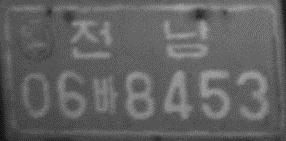0: (21, 71, 51, 120)
3: (236, 68, 270, 123)
4: (163, 70, 194, 122)
5: (198, 69, 232, 122)
6: (55, 69, 87, 119)
8: (122, 69, 156, 122)
바: (91, 74, 119, 115)
영: (16, 17, 57, 66)
전남_D: (67, 17, 213, 61)
